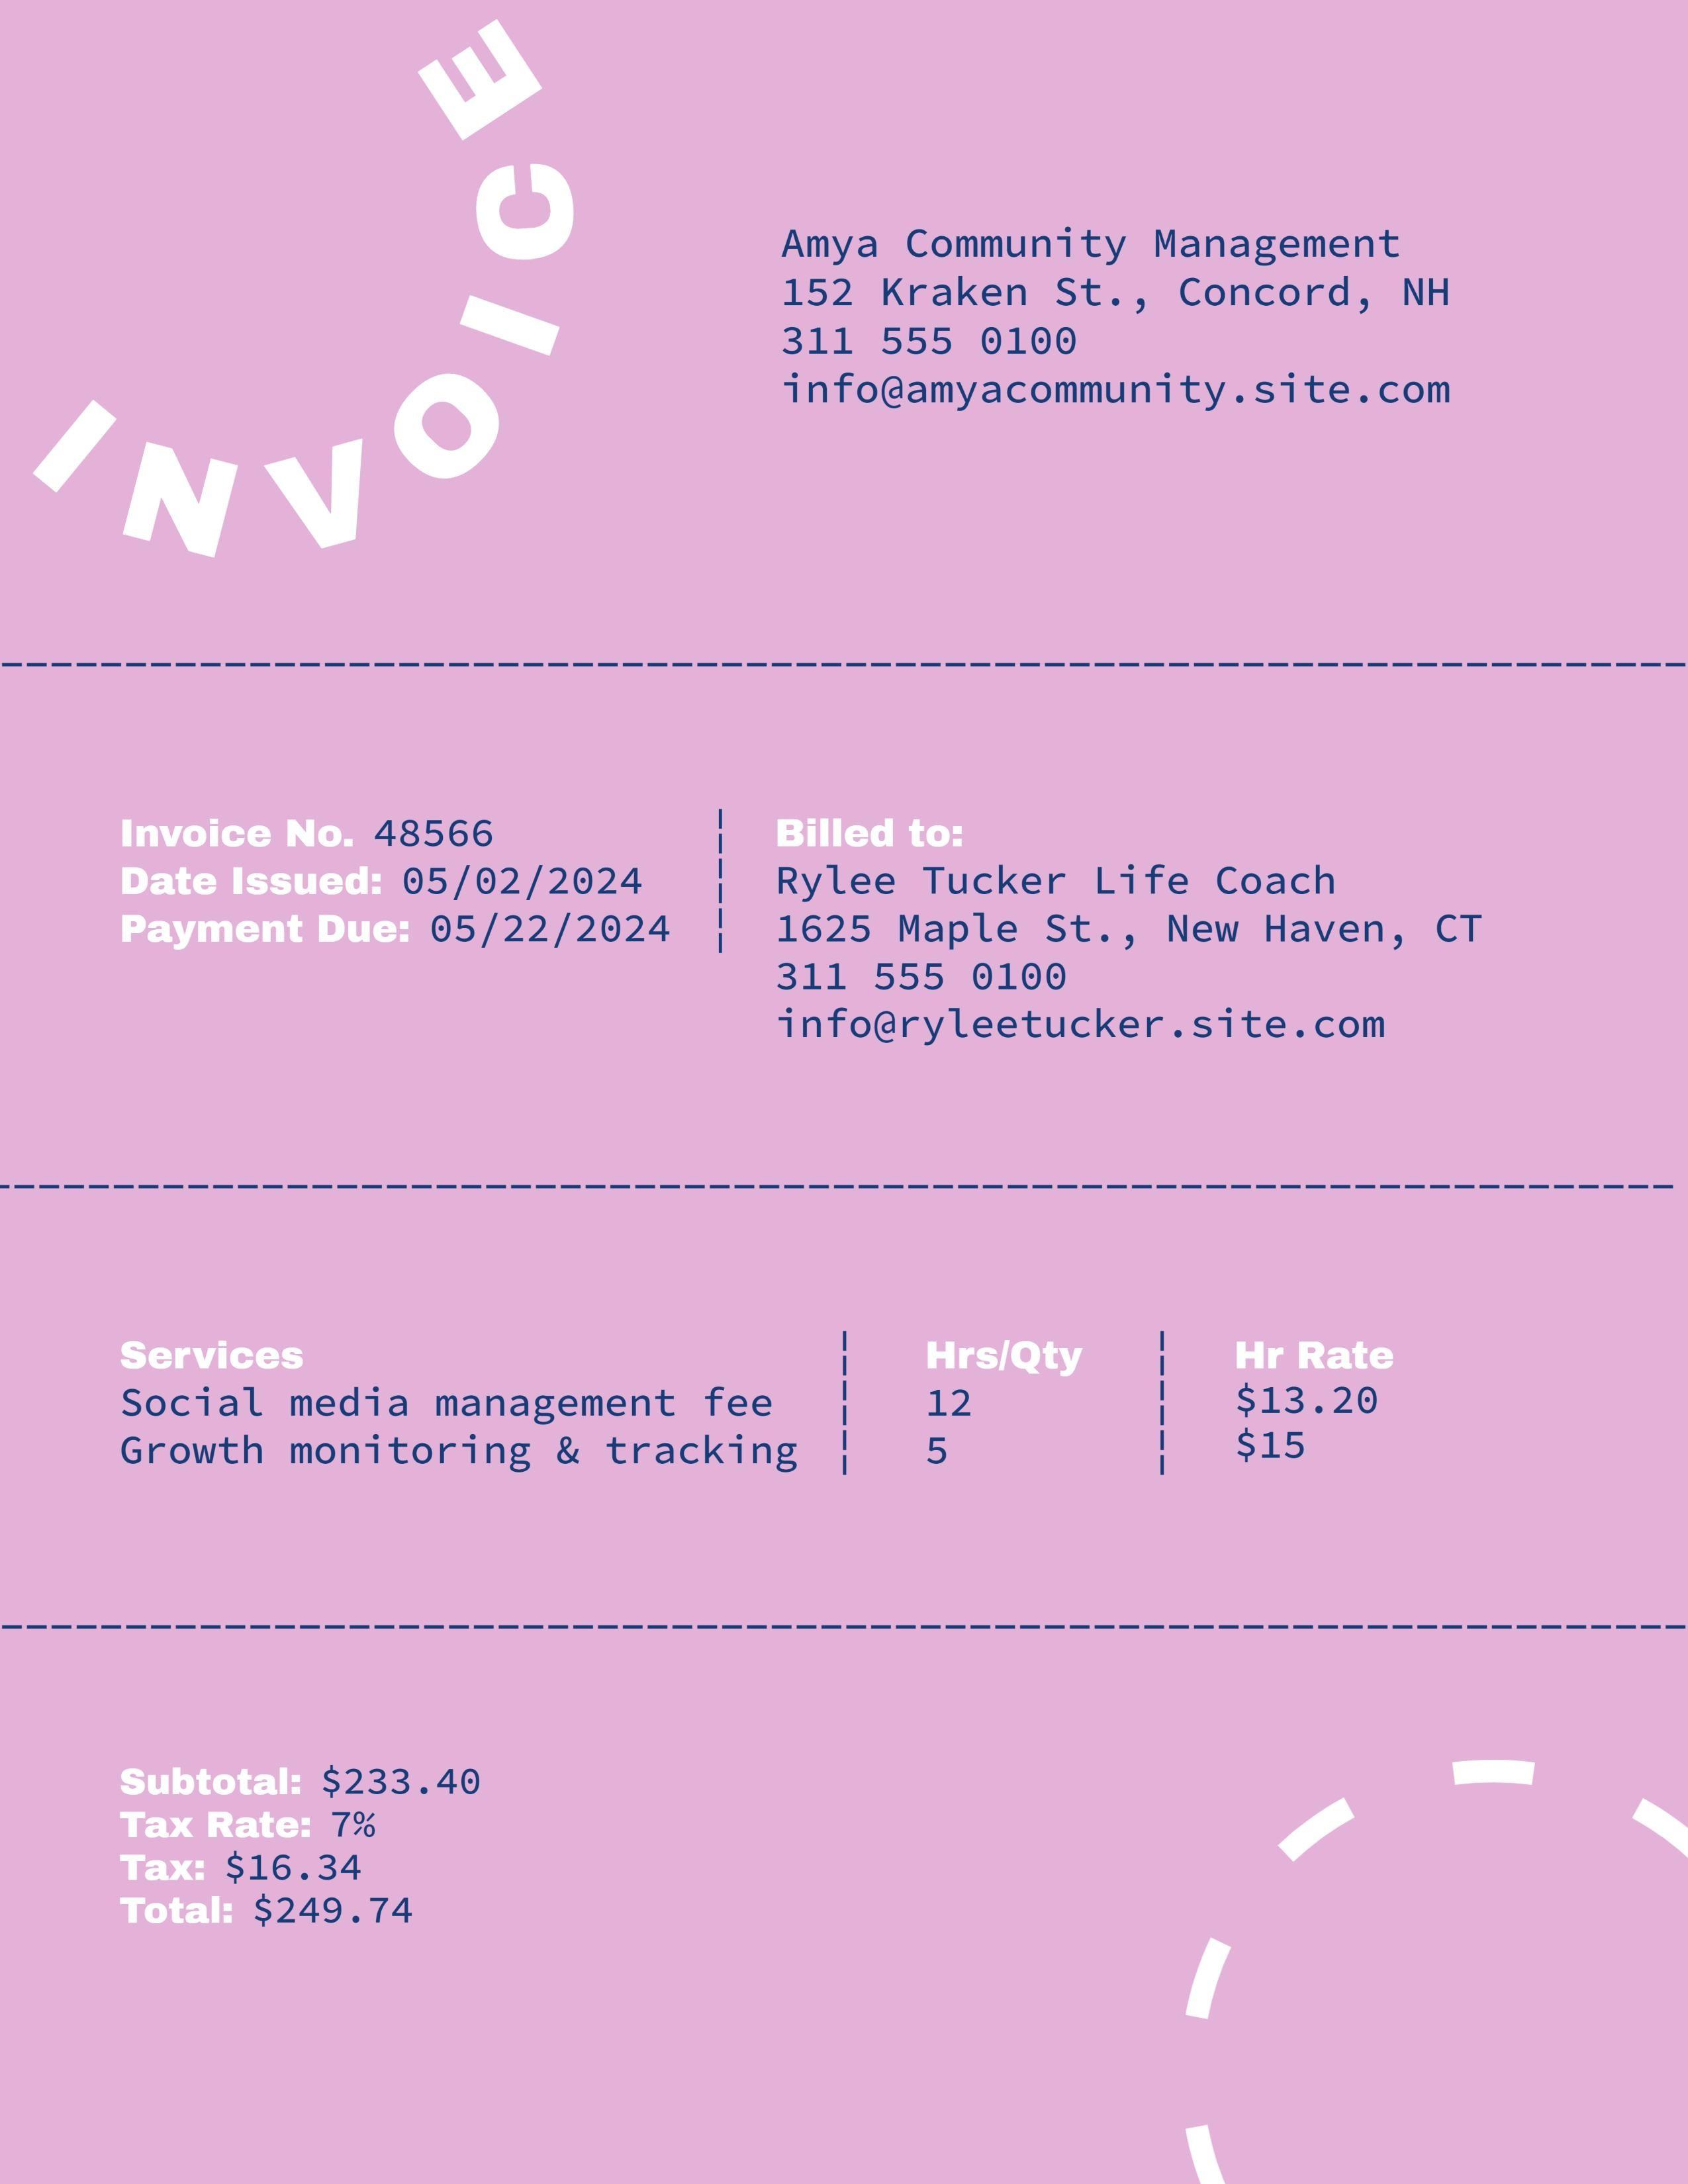ROI: (119, 1328, 1420, 1486), (752, 199, 1486, 436), (775, 814, 1497, 1049), (106, 791, 711, 986), (106, 1744, 504, 1936)
